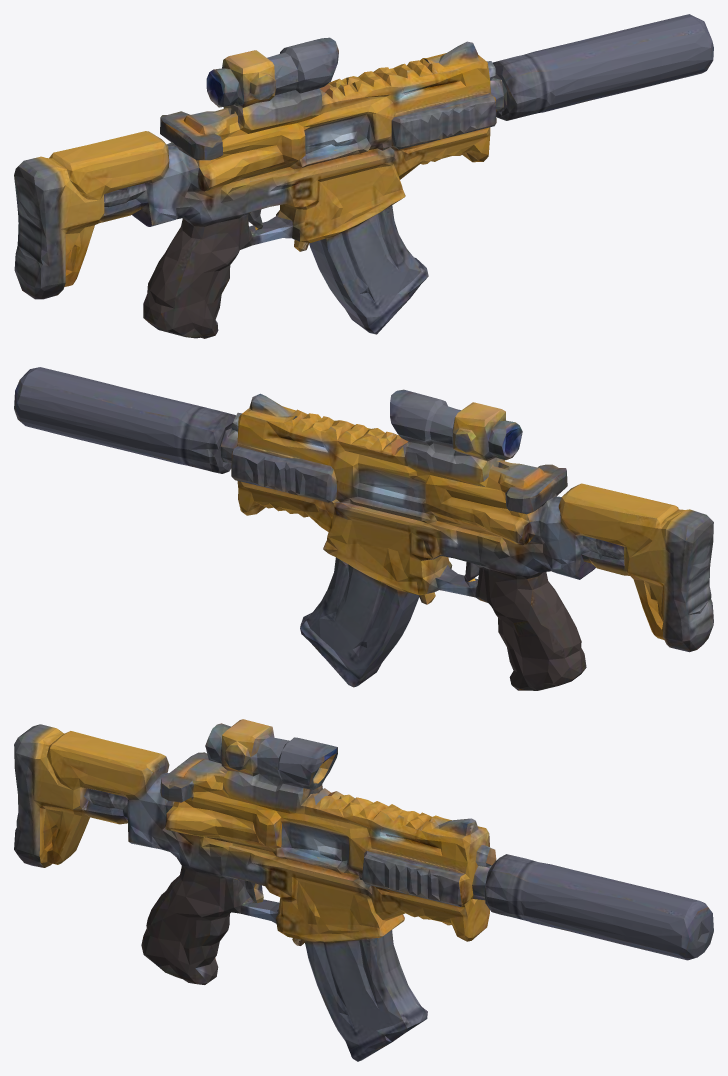
Rendered from pf-w-suppressed-pulse-carbine.glb.
The picture shows the model from 3 angles, top to bottom: view 1: azimuth 30°, elevation 25°; view 2: azimuth 150°, elevation 25°; view 3: azimuth 330°, elevation 25°; orthographic projection.
Parts seen in each view (by area): view 1: tmplawd6yn7.ply; view 2: tmplawd6yn7.ply; view 3: tmplawd6yn7.ply.
Boxes of the visible parts, left/top/right/bottom form: tmplawd6yn7.ply: left=14, top=14, right=713, bottom=338; tmplawd6yn7.ply: left=14, top=367, right=713, bottom=690; tmplawd6yn7.ply: left=14, top=719, right=713, bottom=1061.
Size of the model in its own units: 0.95 by 0.3981 by 0.1059.
Materials: 1 (1 with a texture image).
